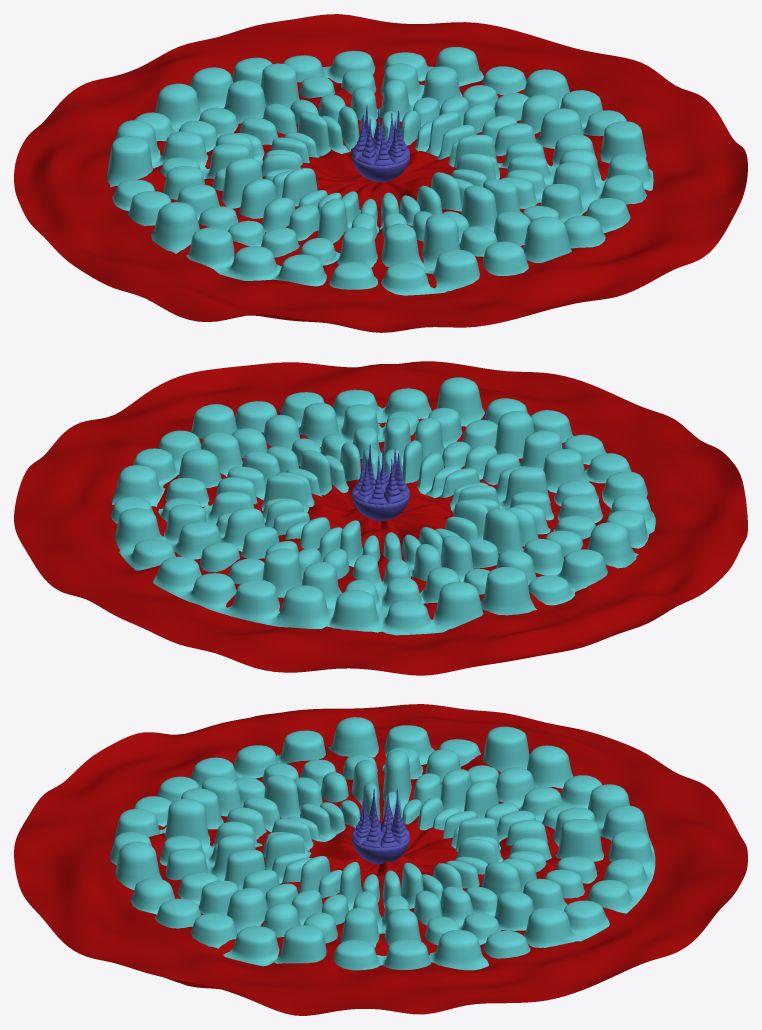
The model's file is nest.glb.
3 views of the same model, one above another, from view 1: azimuth 30°, elevation 25°; view 2: azimuth 150°, elevation 25°; view 3: azimuth 270°, elevation 25° (orthographic).
Visible parts, largest first — view 1: nest; view 2: nest; view 3: nest.
Part boxes in pixels (x1,y1,x2,y2): nest: (14,14,747,332); nest: (14,361,747,675); nest: (14,704,747,1015).
Bounding box in the file's own units: 15.97 × 1.9 × 15.97.
